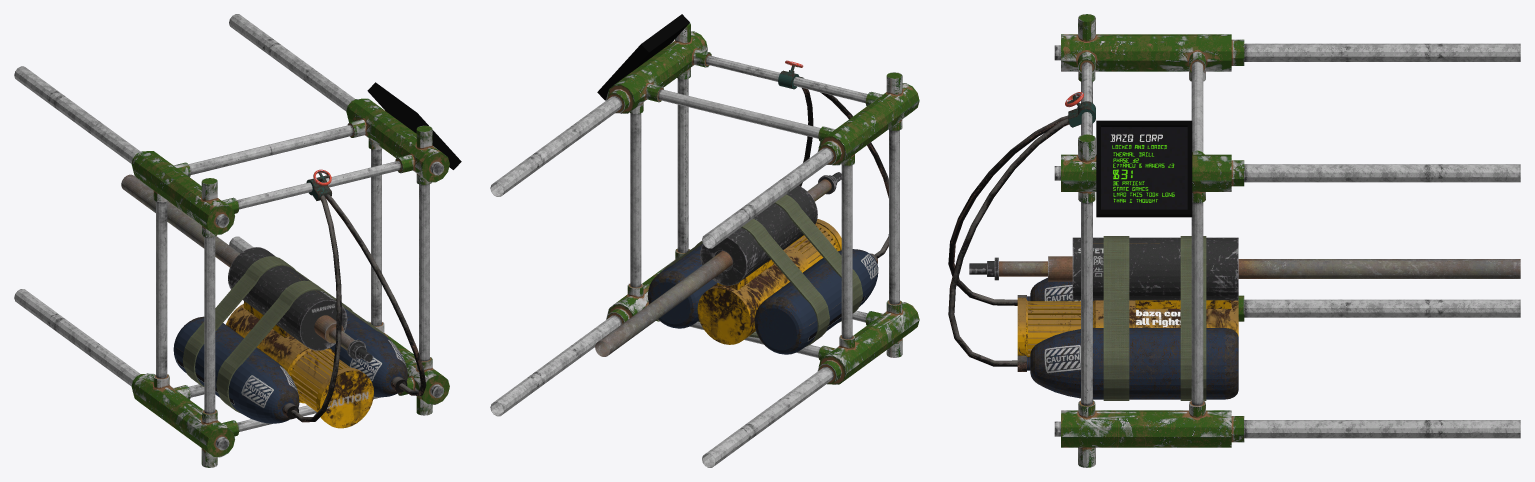
Rendered from thermal_drill.obj.
The picture shows the model from 3 angles, left to right: view 1: azimuth 30°, elevation 25°; view 2: azimuth 150°, elevation 25°; view 3: azimuth 270°, elevation 25°; orthographic projection. The views are drawn at different scales.
Parts seen in each view (by area): view 1: bazq_tutorial_High_0_0_0, bazq_tutorial_High_0_1_0, bazq_tutorial_High_0_2_0; view 2: bazq_tutorial_High_0_0_0, bazq_tutorial_High_0_1_0, bazq_tutorial_High_0_2_0; view 3: bazq_tutorial_High_0_0_0, bazq_tutorial_High_0_1_0, bazq_tutorial_High_0_2_0.
Part boxes in pixels (x1,y1,x2,y2): bazq_tutorial_High_0_0_0: [14, 14, 449, 467]; bazq_tutorial_High_0_1_0: [121, 82, 461, 428]; bazq_tutorial_High_0_2_0: [182, 169, 426, 422]; bazq_tutorial_High_0_0_0: [490, 23, 919, 467]; bazq_tutorial_High_0_1_0: [595, 14, 878, 356]; bazq_tutorial_High_0_2_0: [661, 60, 888, 346]; bazq_tutorial_High_0_0_0: [1054, 14, 1520, 467]; bazq_tutorial_High_0_1_0: [969, 120, 1520, 399]; bazq_tutorial_High_0_2_0: [948, 92, 1206, 400].
Size of the model in its own units: 1.25 by 1.32 by 2.
